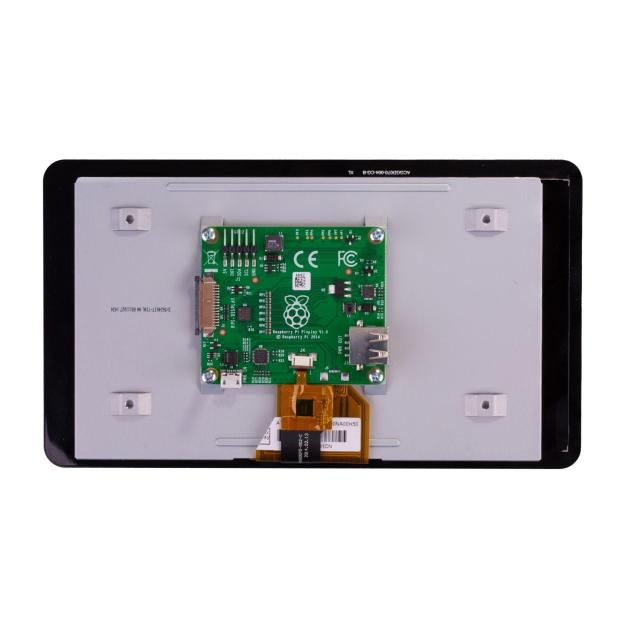Display: (41, 151, 596, 480)
